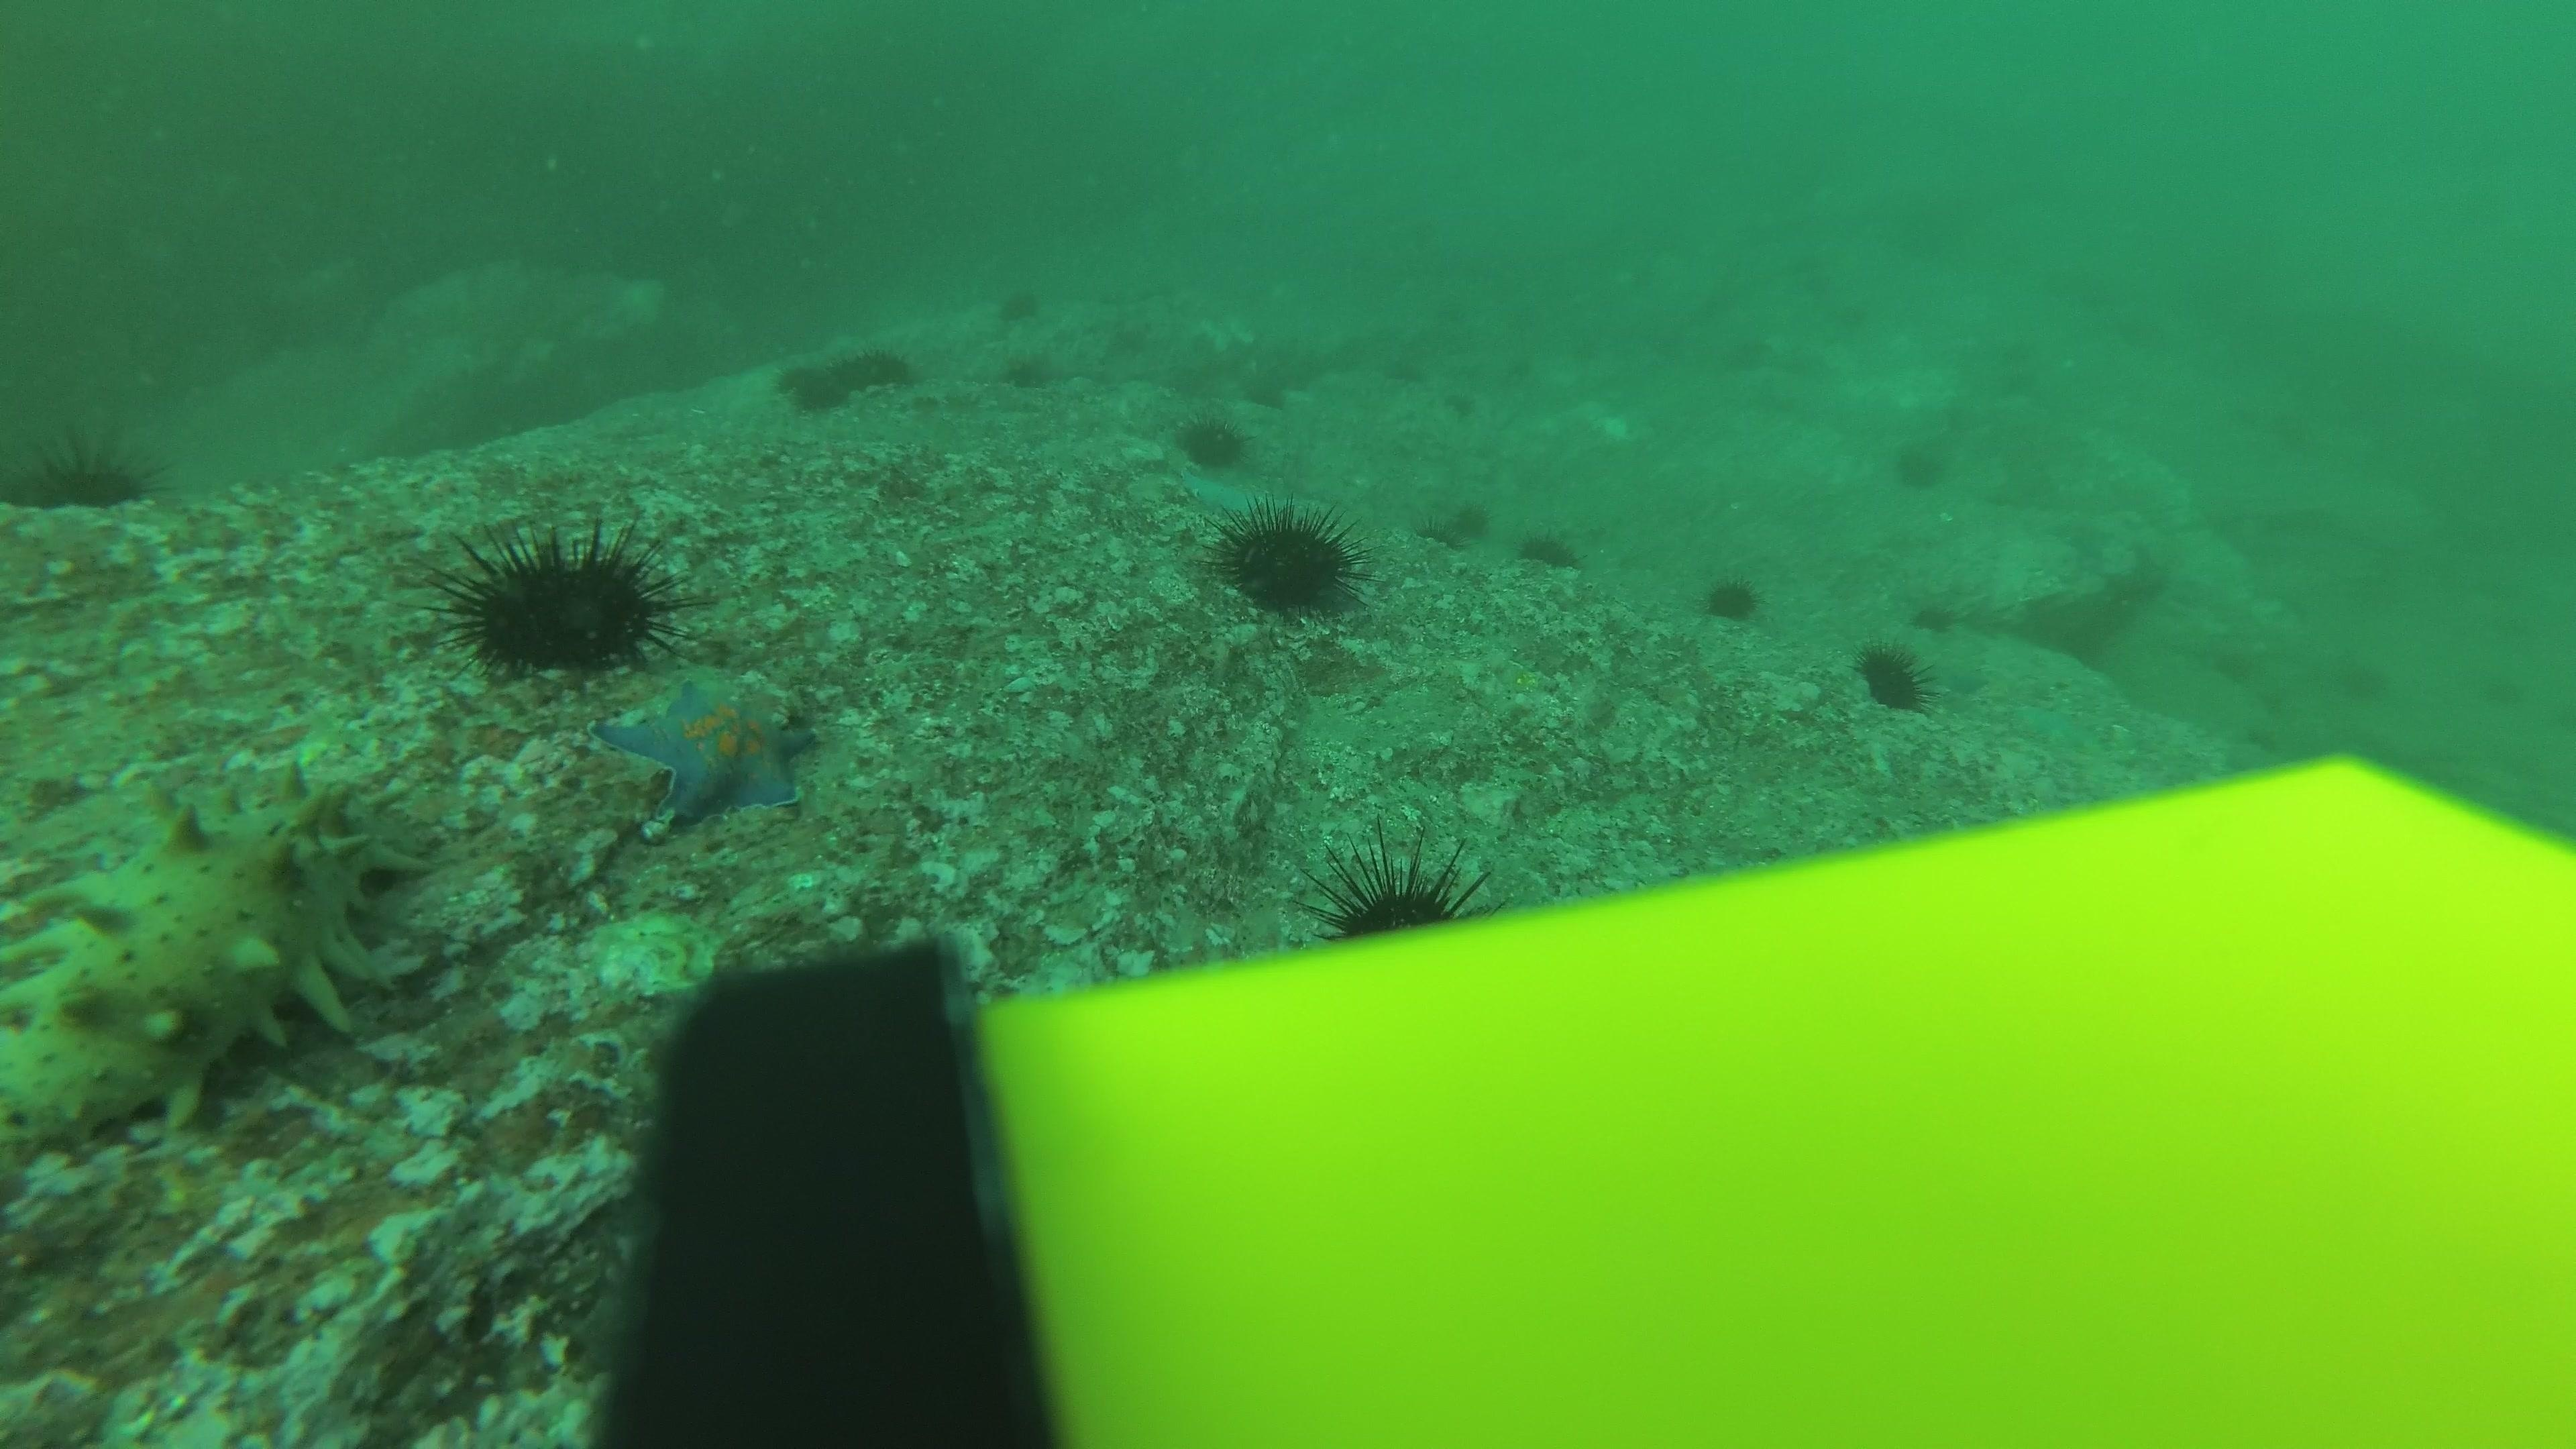echinus: (437, 518, 678, 679), (1316, 835, 1486, 941), (1217, 501, 1361, 617), (23, 430, 156, 518), (1854, 637, 1936, 713), (1175, 407, 1249, 471), (1890, 433, 1951, 494), (1700, 570, 1764, 625), (1516, 522, 1580, 573), (794, 379, 863, 425), (842, 340, 908, 387), (764, 361, 833, 396), (1003, 349, 1056, 393), (994, 281, 1044, 327), (2346, 669, 2399, 702), (2489, 678, 2534, 713), (1408, 522, 1460, 550), (1458, 497, 1493, 538), (2219, 651, 2263, 683), (1914, 607, 1957, 639), (1996, 370, 2040, 400), (1449, 393, 1486, 421), (2001, 347, 2038, 375), (1835, 306, 1870, 333), (1736, 338, 1767, 364)
holothurian: (5, 766, 419, 1146)
starfish: (591, 667, 819, 830), (1171, 467, 1267, 518)
